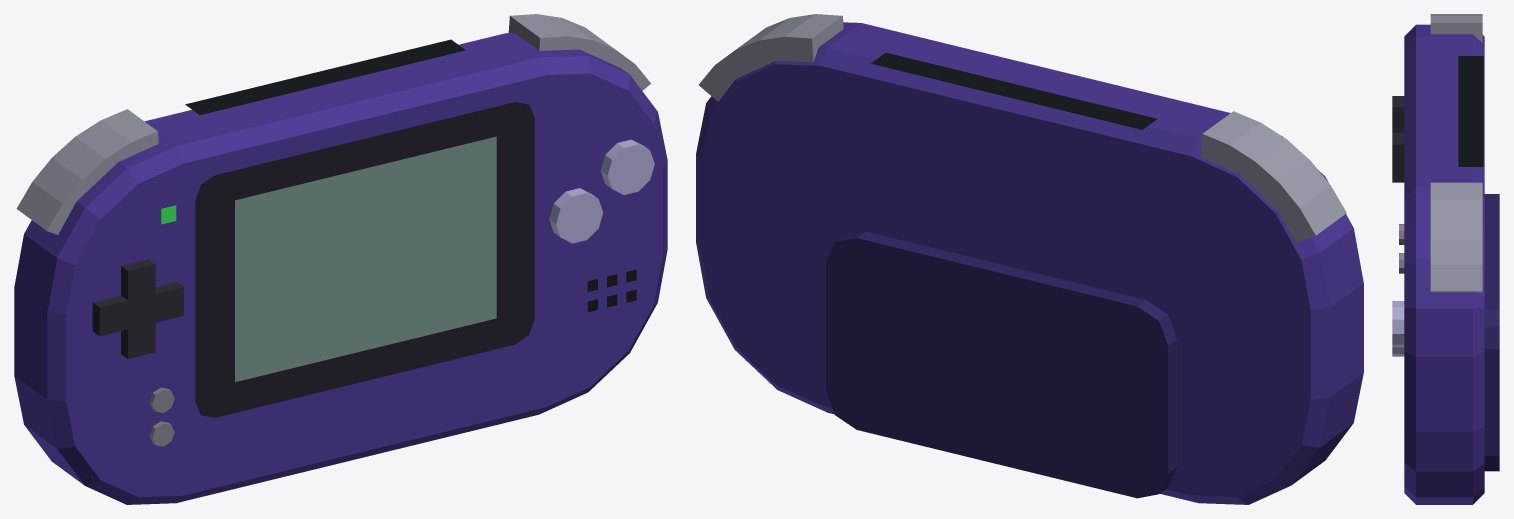
File: gba.obj
The picture shows the model from 3 angles, left to right: view 1: azimuth 30°, elevation 25°; view 2: azimuth 150°, elevation 25°; view 3: azimuth 270°, elevation 25°; orthographic projection. The views are drawn at different scales.
Parts seen in each view (by area): view 1: gba; view 2: gba; view 3: gba.
Boxes of the visible parts, bbox=[...] form: gba: bbox=[14, 14, 667, 504]; gba: bbox=[696, 14, 1363, 504]; gba: bbox=[1392, 14, 1499, 504].
Size of the model in its own units: 14.45 by 8.19 by 2.53.
